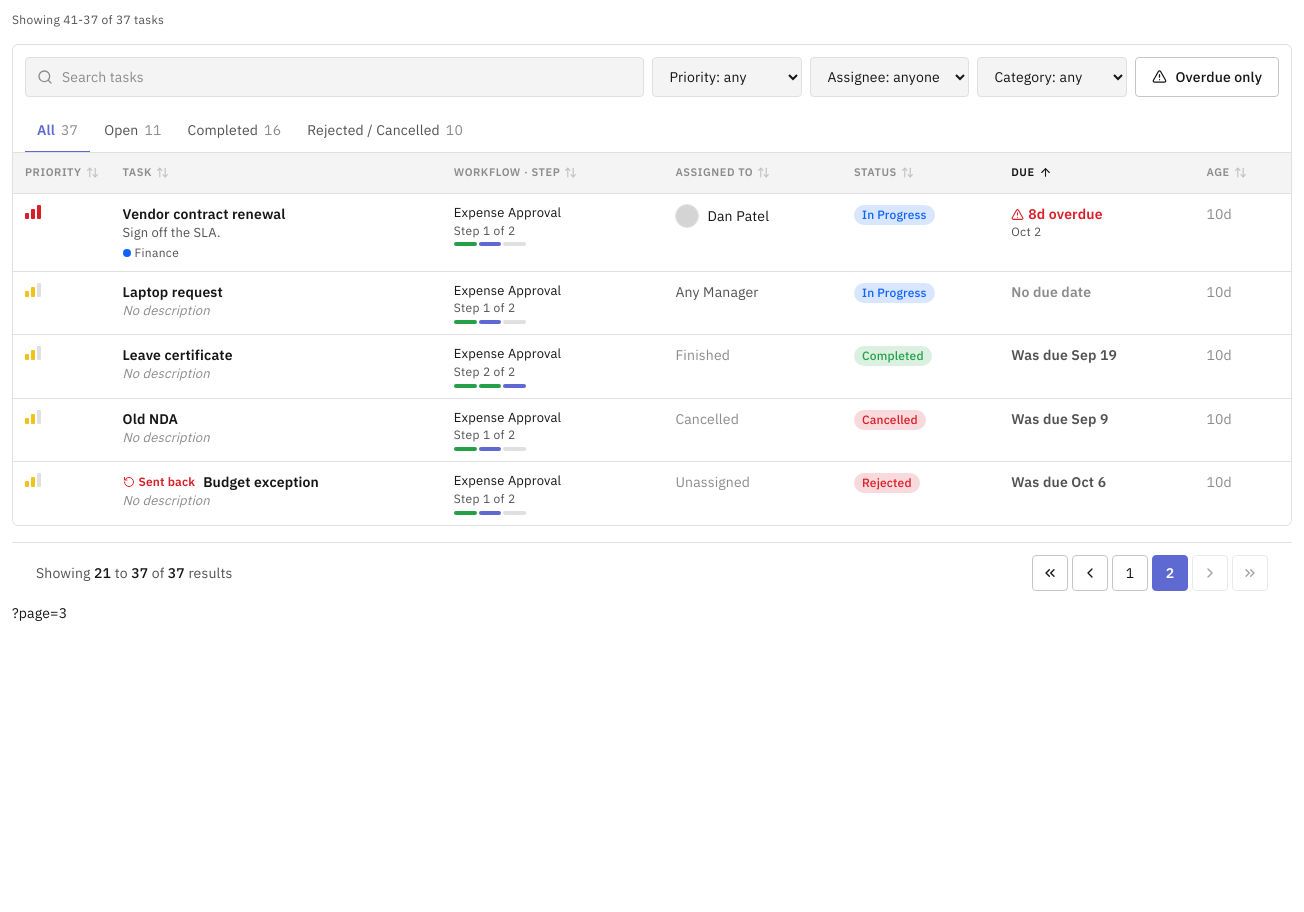
Test case: AllTasks (table) › TC-A04: a filter is sent to the server, shown as a pill, and can be removed or cleared
Expected: the button "Vendor contract renewal" is shown, [122, 204, 286, 224]
Select "High" in the 1st dropdown named "Priority": (728, 77) [652, 57, 802, 97]
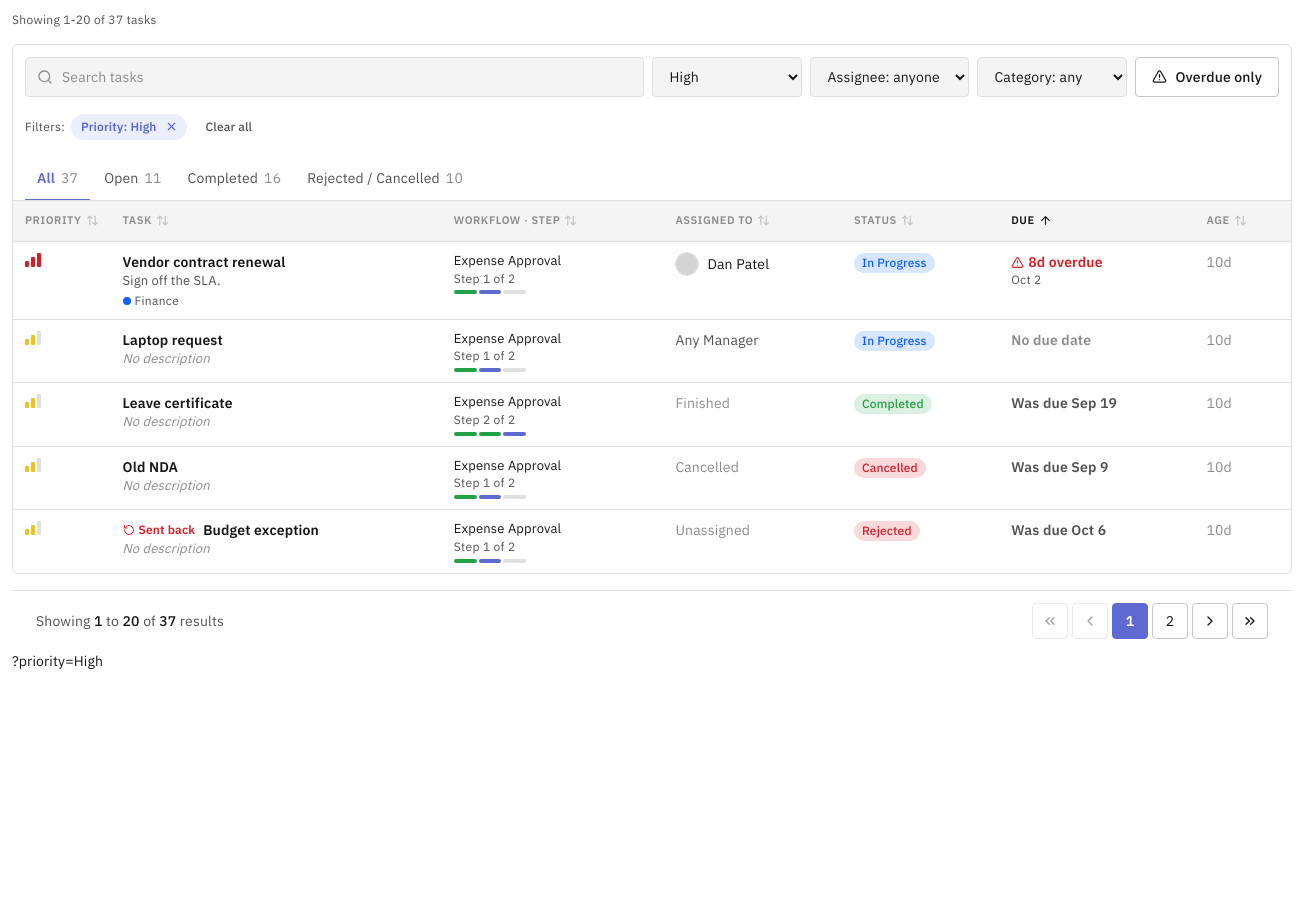
Select "Dan Patel" in the 2nd dropdown named "Assignee": (890, 77) [810, 57, 970, 97]
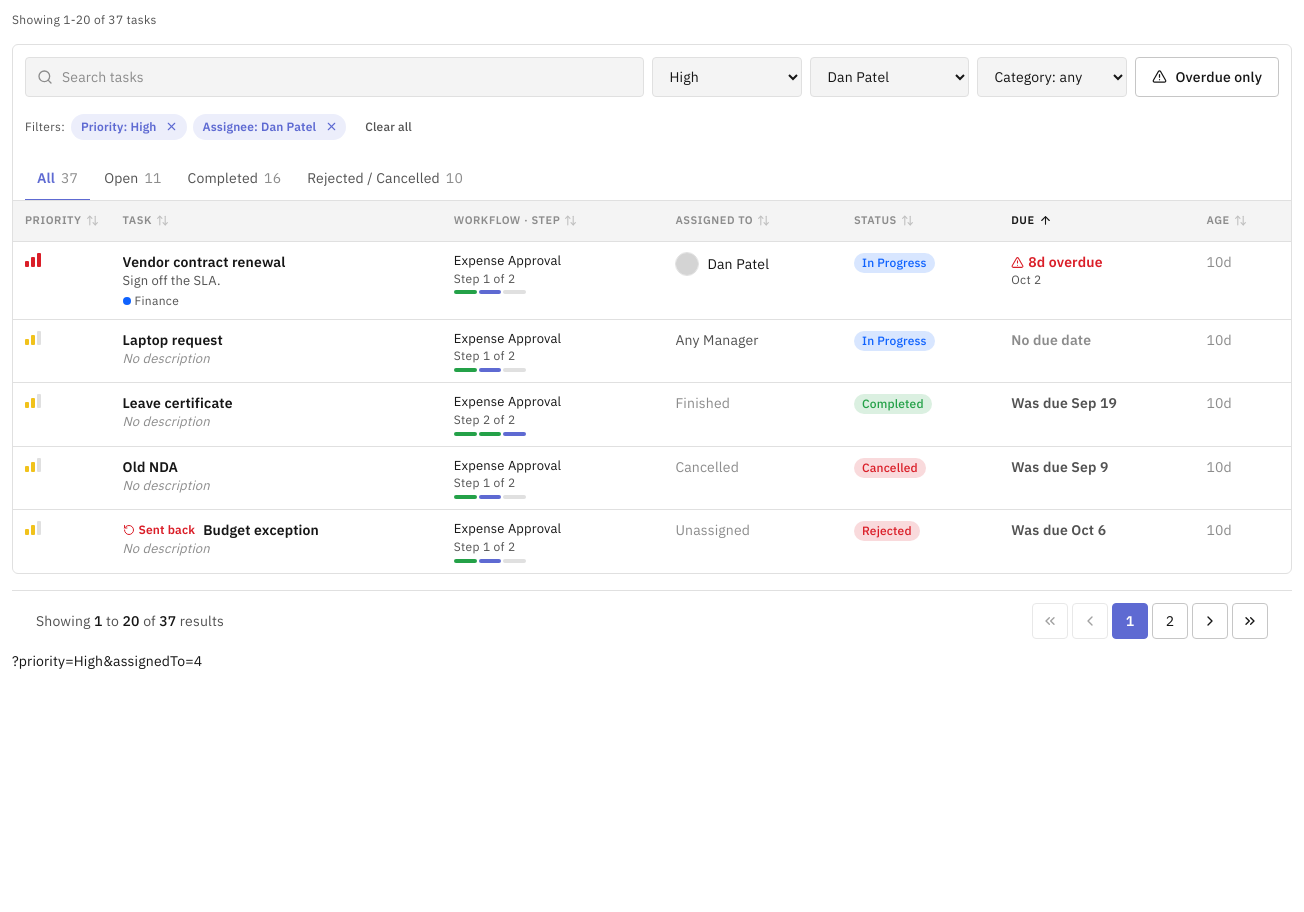
Select "HR" in the 3rd dropdown named "Category": (1052, 77) [978, 57, 1128, 97]
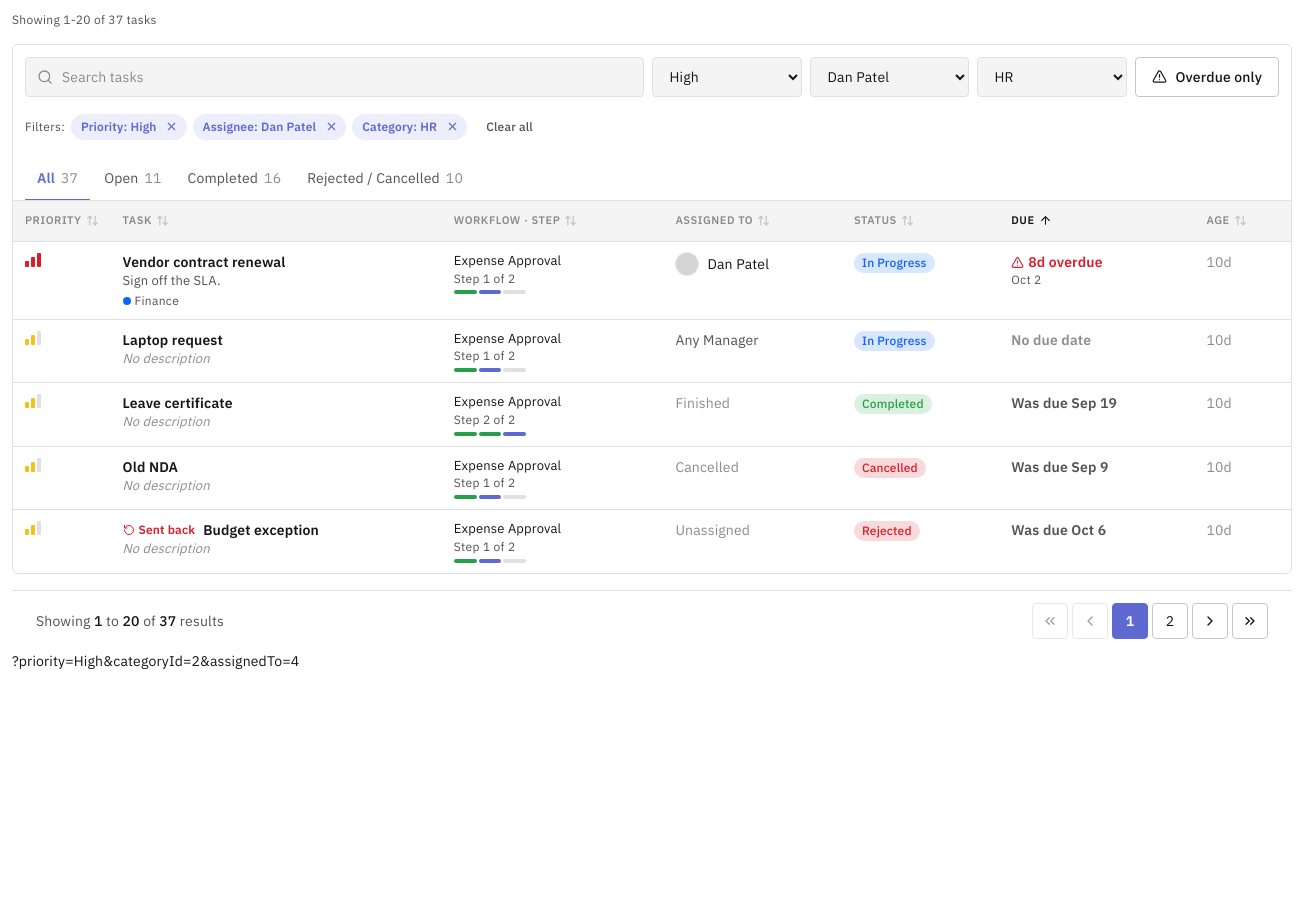
Click the button "Overdue only": (1207, 77) [1136, 57, 1279, 97]
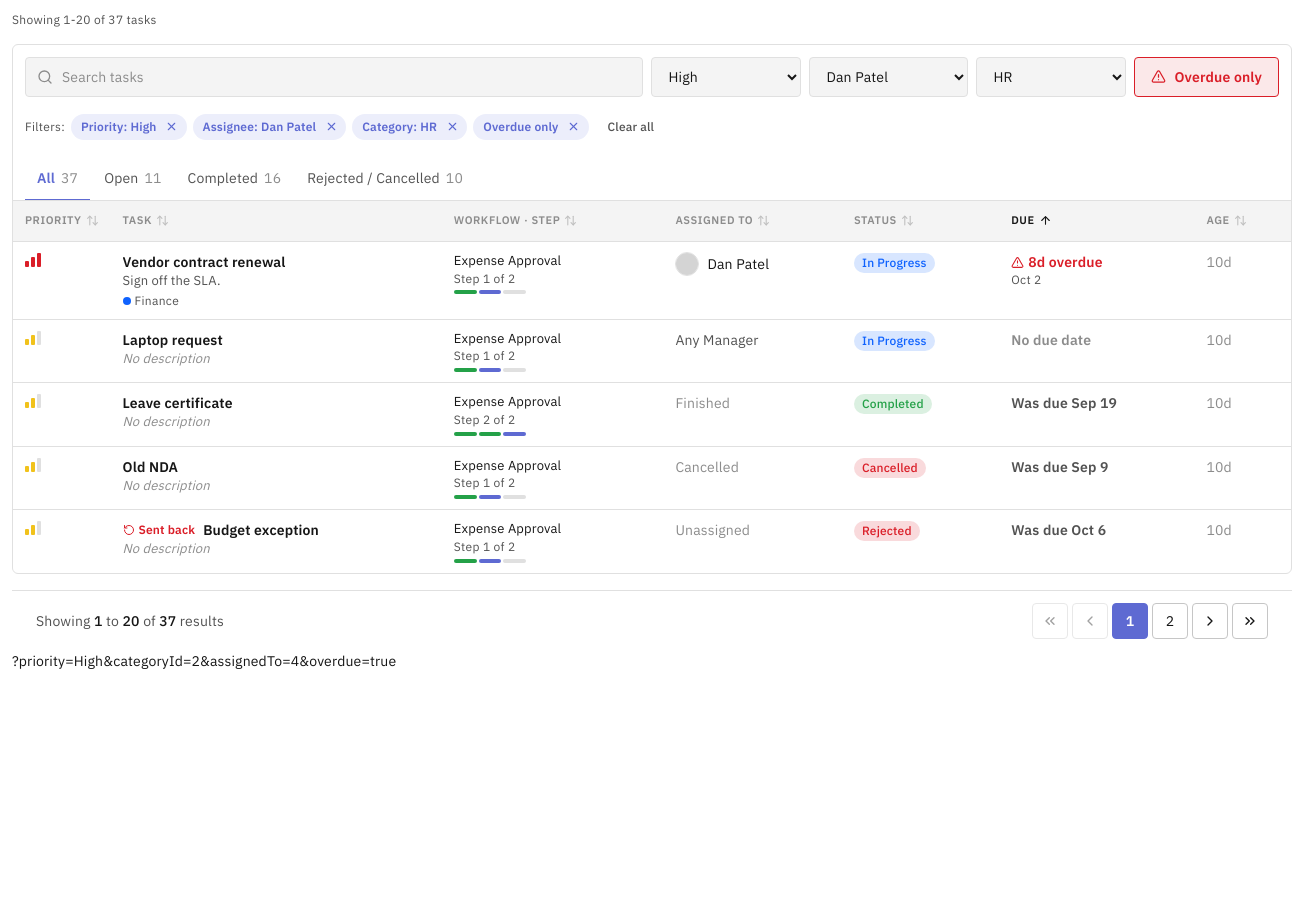
Now the text "Assignee: Dan Patel" is shown, box [192, 114, 346, 140]
Now the text "Category: HR" is shown, box [352, 114, 467, 140]
Click the button named "Remove filter Priority: High": (172, 127) [160, 116, 182, 138]
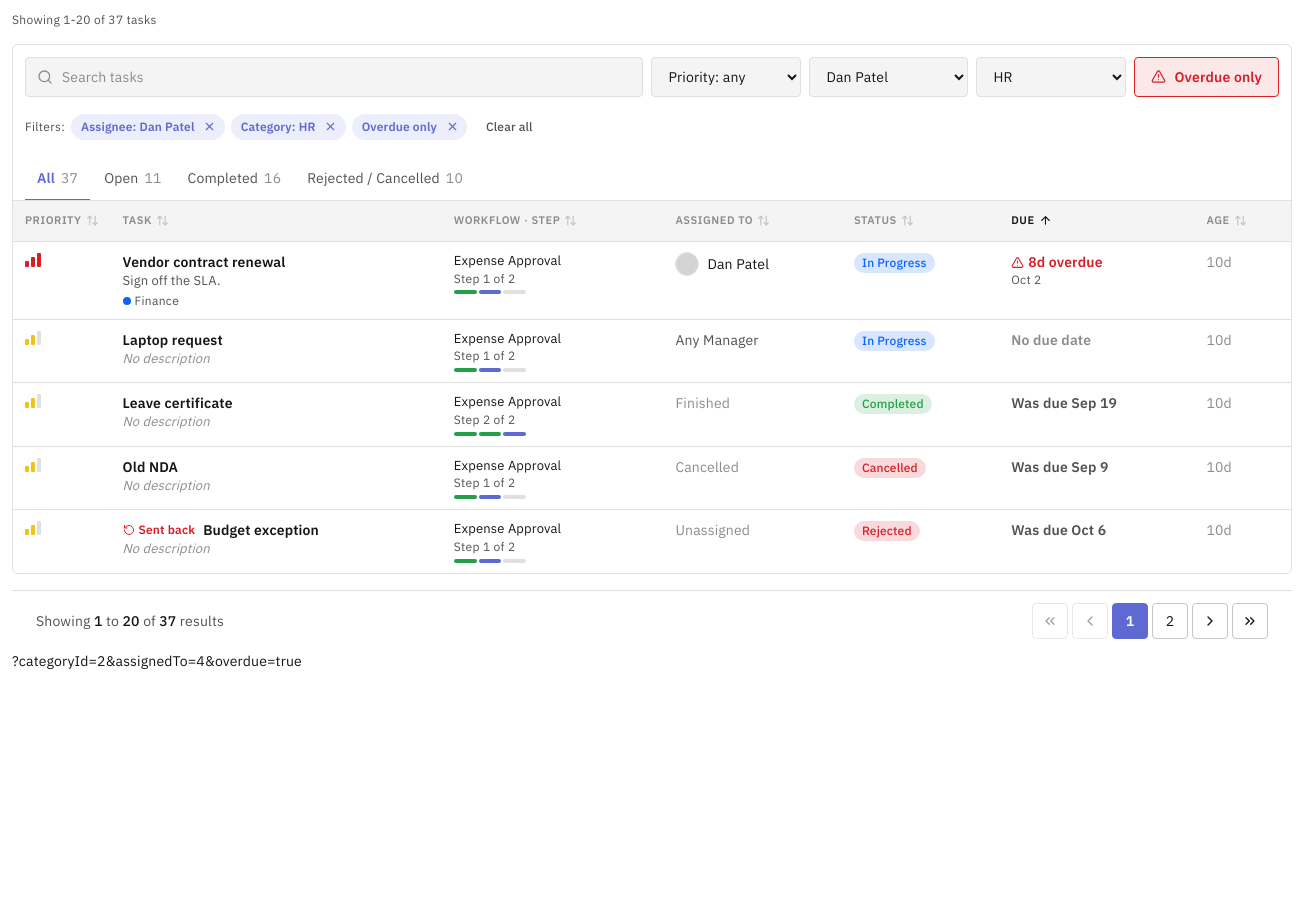
Click the button "Clear all": (509, 127) [473, 109, 546, 145]
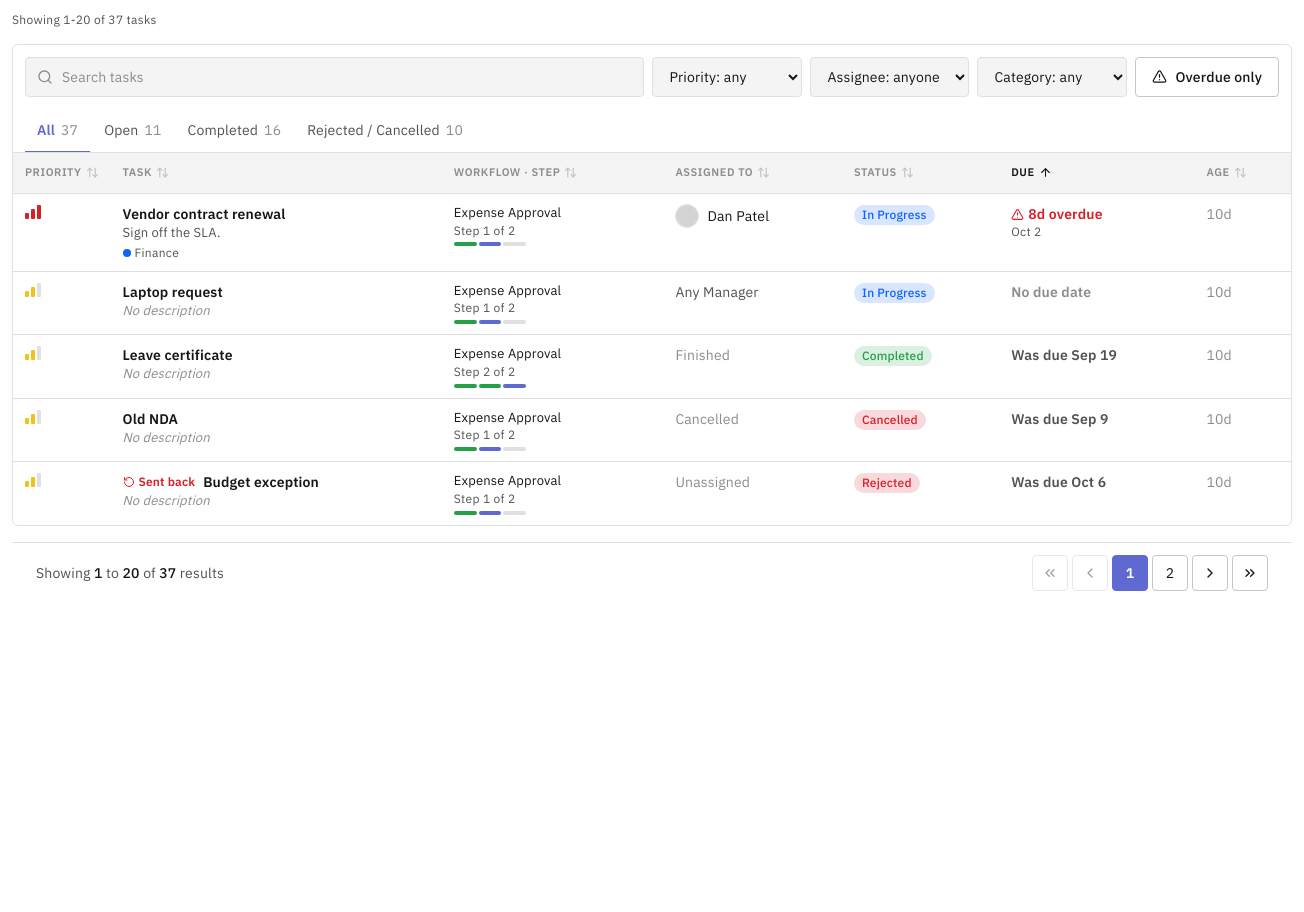
Now the text "Filters:" is gone
